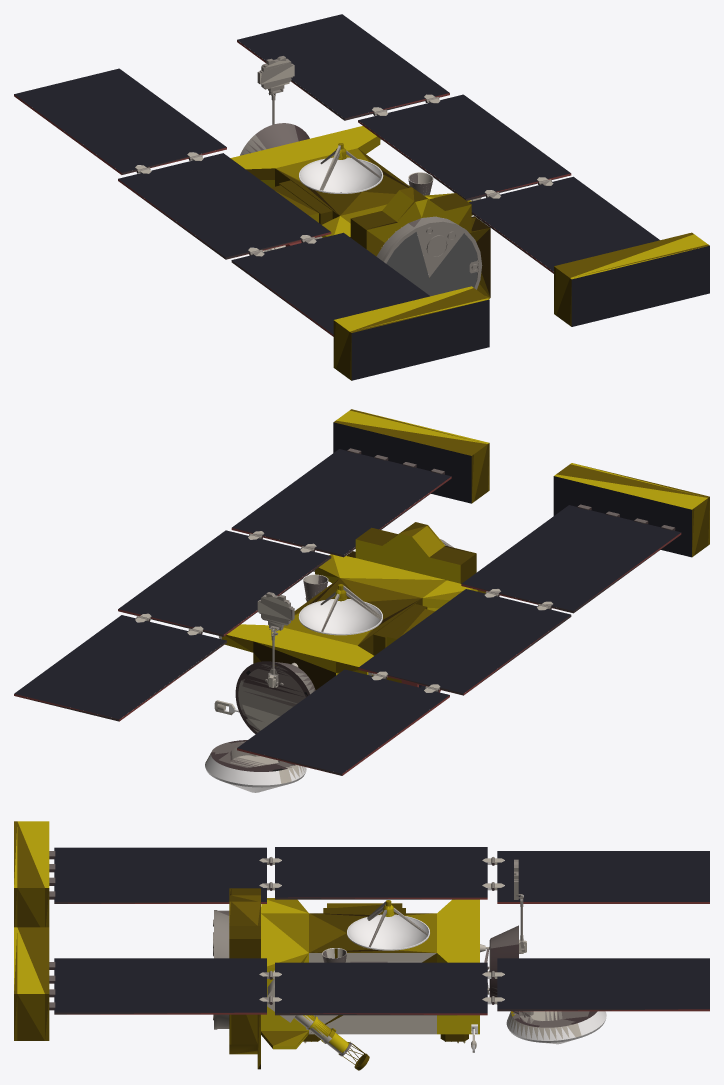
Rendered from stardust.glb.
3 renders of one model, top to bottom at view 1: azimuth 30°, elevation 25°; view 2: azimuth 150°, elevation 25°; view 3: azimuth 270°, elevation 25°, orthographic.
Visible parts, largest first — view 1: solar-panel, foil, body; view 2: solar-panel, foil, body; view 3: solar-panel, foil, body.
Boxes of the visible parts, x1,y1,x2,y2 form: solar-panel: (14, 14, 709, 380); foil: (230, 126, 709, 380); body: (14, 40, 571, 336); solar-panel: (14, 422, 691, 773); foil: (222, 409, 709, 690); body: (14, 448, 681, 792); solar-panel: (54, 847, 709, 1013); foil: (14, 821, 514, 1070); body: (49, 851, 709, 1065).
Size of the model in its own units: 2.94 by 1.45 by 5.01.
